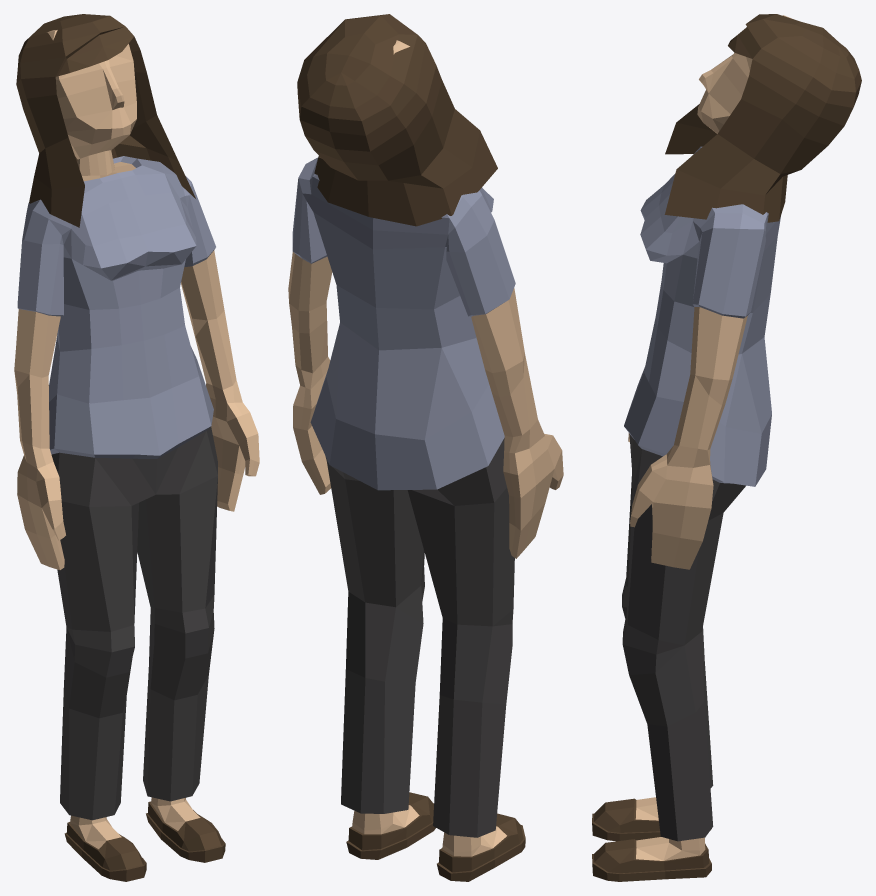
The model's file is Female_Crowd_LeaningBack.glb.
3 views of the same model, side by side, from view 1: azimuth 30°, elevation 25°; view 2: azimuth 150°, elevation 25°; view 3: azimuth 270°, elevation 25° (orthographic). The views are drawn at different scales.
Visible parts, largest first — view 1: Female_Crowd_LeaningBack; view 2: Female_Crowd_LeaningBack; view 3: Female_Crowd_LeaningBack.
Boxes of the visible parts, x1,y1,x2,y2 form: Female_Crowd_LeaningBack: (14,14,259,881); Female_Crowd_LeaningBack: (288,14,563,881); Female_Crowd_LeaningBack: (592,14,861,881).
Size of the model in its own units: 0.4545 by 1.63 by 0.4784.
